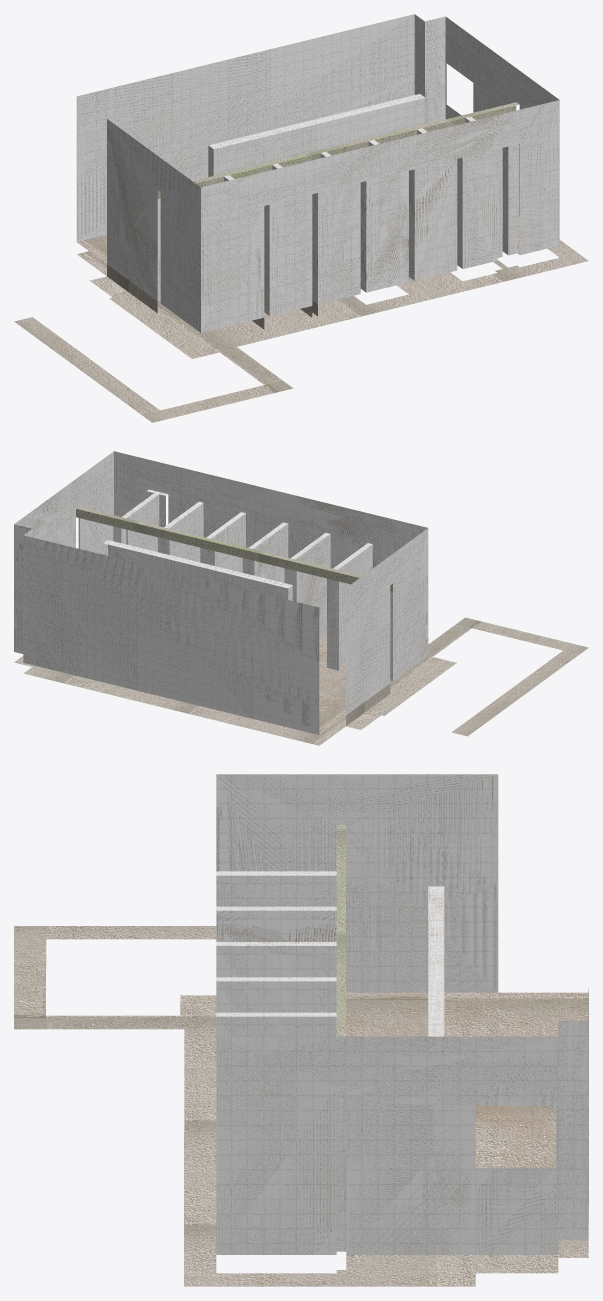
The model's file is COM003.obj.
3 views of the same model, one above another, from view 1: azimuth 30°, elevation 25°; view 2: azimuth 150°, elevation 25°; view 3: azimuth 270°, elevation 25° (orthographic). The views are drawn at different scales.
Parts seen in each view (by area): view 1: Mesh31 COM003 Model; view 2: Mesh31 COM003 Model; view 3: Mesh31 COM003 Model.
Part boxes in pixels (<box>): Mesh31 COM003 Model: <box>14,14,588,422</box>; Mesh31 COM003 Model: <box>14,451,588,745</box>; Mesh31 COM003 Model: <box>14,774,588,1286</box>.
Size of the model in its own units: 10.64 by 3.25 by 7.16.
4 materials, 3 textured.
